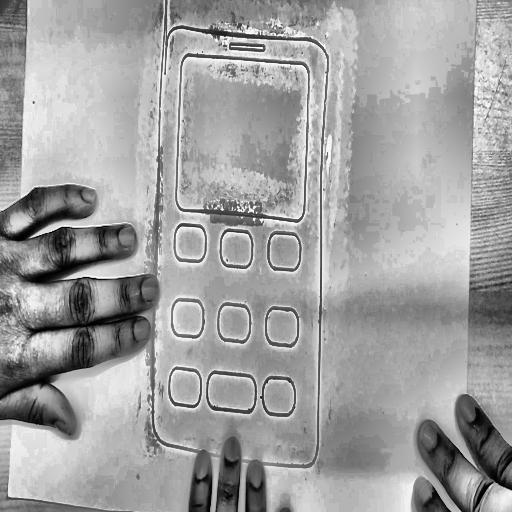bottom_left: (6, 490, 13, 503)
mobile: (145, 0, 336, 482)
